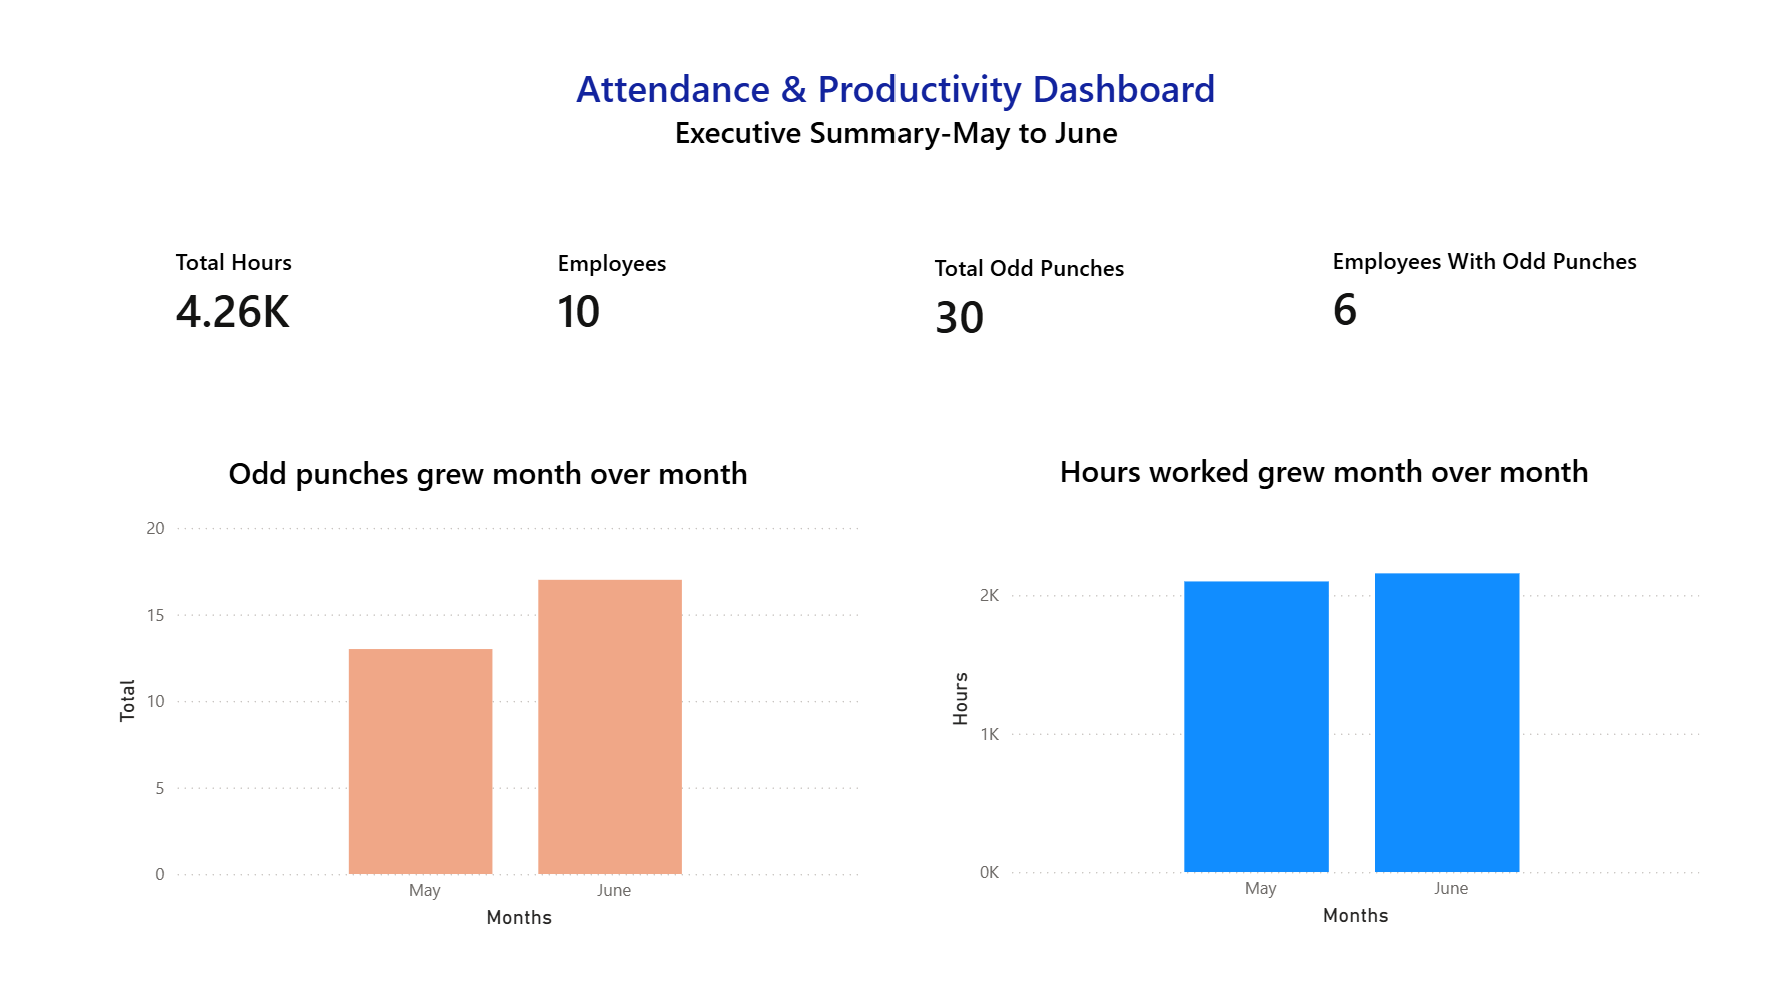

This screenshot's page, from the dashboard's own definition file:
{"tool":"powerbi","page":{"name":"Executive Summary","canvas":[1280,720],"ordinal":0},"visuals":[{"type":"cardVisual","fields":{"Data":["Sum(public vw_company_overview.total_hours)"]},"box":[98.6,130,273,168.3],"z":0},{"type":"cardVisual","fields":{"Data":["Sum(public vw_company_overview.employees)"]},"box":[371.6,130.4,250.2,169.9],"z":1000},{"type":"cardVisual","fields":{"Data":["Sum(public vw_company_overview.total_odd_punches)"]},"box":[640,135,250.2,168.3],"z":2000},{"type":"cardVisual","fields":{"Data":["Sum(public vw_company_overview.employees_with_odd_punches)"]},"box":[923.6,130.4,295.7,166.8],"z":3000},{"type":"clusteredColumnChart","title":"Odd punches grew month over month","fields":{"Category":["public vw_company_summary.Month_Name"],"Y":["Sum(public vw_company_summary.total_odd_punches)"]},"box":[79.7,328.3,541.7,344.2],"z":4000},{"type":"columnChart","title":"Hours worked grew month over month","fields":{"Category":["public vw_company_summary.Month_Name"],"Y":["Sum(public vw_company_summary.total_hours)"]},"box":[674.1,326.9,545.8,344.2],"z":5000},{"type":"textbox","box":[80.4,44,1123.8,89.5],"z":6000}]}

Visuals, with their boxes in screenshot pixels (x1, y1, x2, y2), scaled from the page's 1280x720 canvas onto the 1784x990 screenshot:
cardVisual - Sum(public vw_company_overview.total_hours): select_region(137, 179, 518, 410)
cardVisual - Sum(public vw_company_overview.employees): select_region(518, 179, 867, 413)
cardVisual - Sum(public vw_company_overview.total_odd_punches): select_region(892, 186, 1241, 417)
cardVisual - Sum(public vw_company_overview.employees_with_odd_punches): select_region(1287, 179, 1699, 409)
"Odd punches grew month over month" clusteredColumnChart: select_region(111, 451, 866, 925)
"Hours worked grew month over month" columnChart: select_region(940, 449, 1700, 923)
textbox: select_region(112, 60, 1678, 184)
